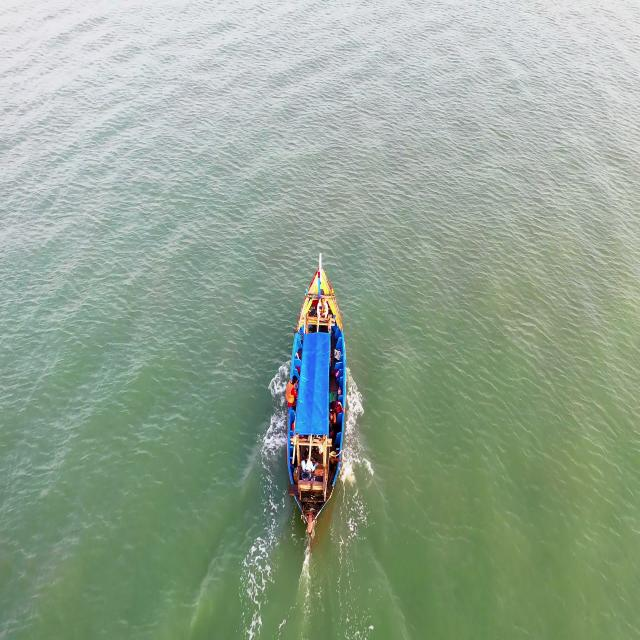ship: (284, 245, 348, 532)
